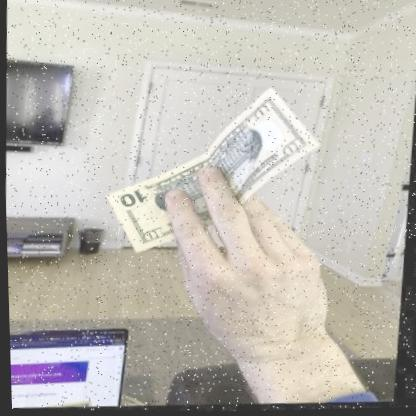ten-back: (106, 89, 323, 256)
